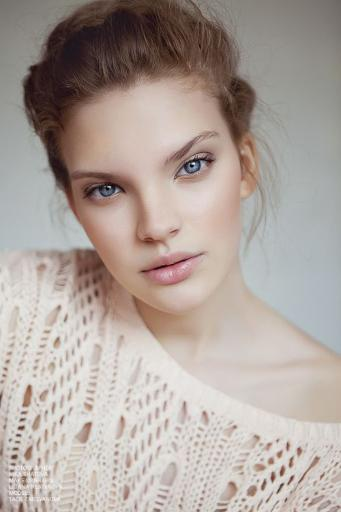left_eye: (176, 153, 217, 180)
left_lip_corner: (195, 248, 213, 263)
right_eye: (85, 183, 128, 205)
right_lip_corner: (137, 267, 149, 283)
